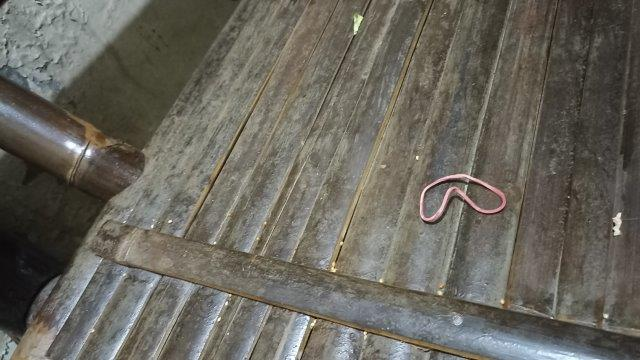karet: (419, 174, 506, 223)
